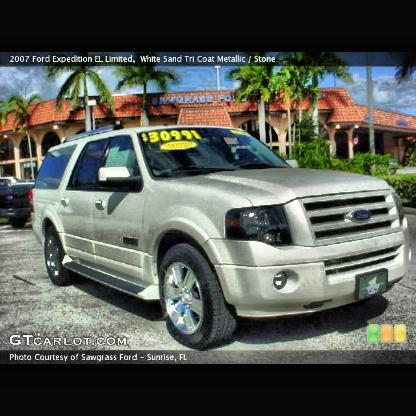Ford Expedition EL SUV 2009: (34, 124, 408, 347)
